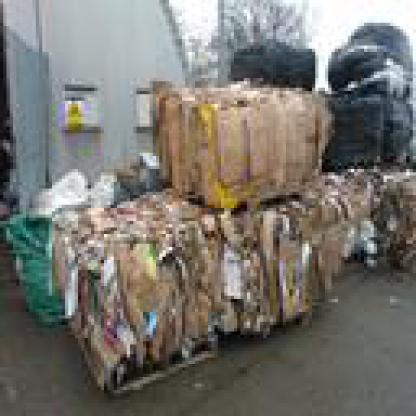CARDBOARD: (46, 188, 212, 384), (134, 182, 332, 335), (143, 74, 325, 202), (195, 87, 325, 202), (322, 162, 377, 266), (107, 237, 166, 332), (296, 195, 341, 293), (370, 166, 413, 266), (36, 162, 81, 214), (114, 150, 156, 192), (84, 169, 124, 208)
PLASTIC: (322, 20, 412, 98), (325, 81, 413, 159), (3, 204, 58, 318), (228, 39, 312, 88)
